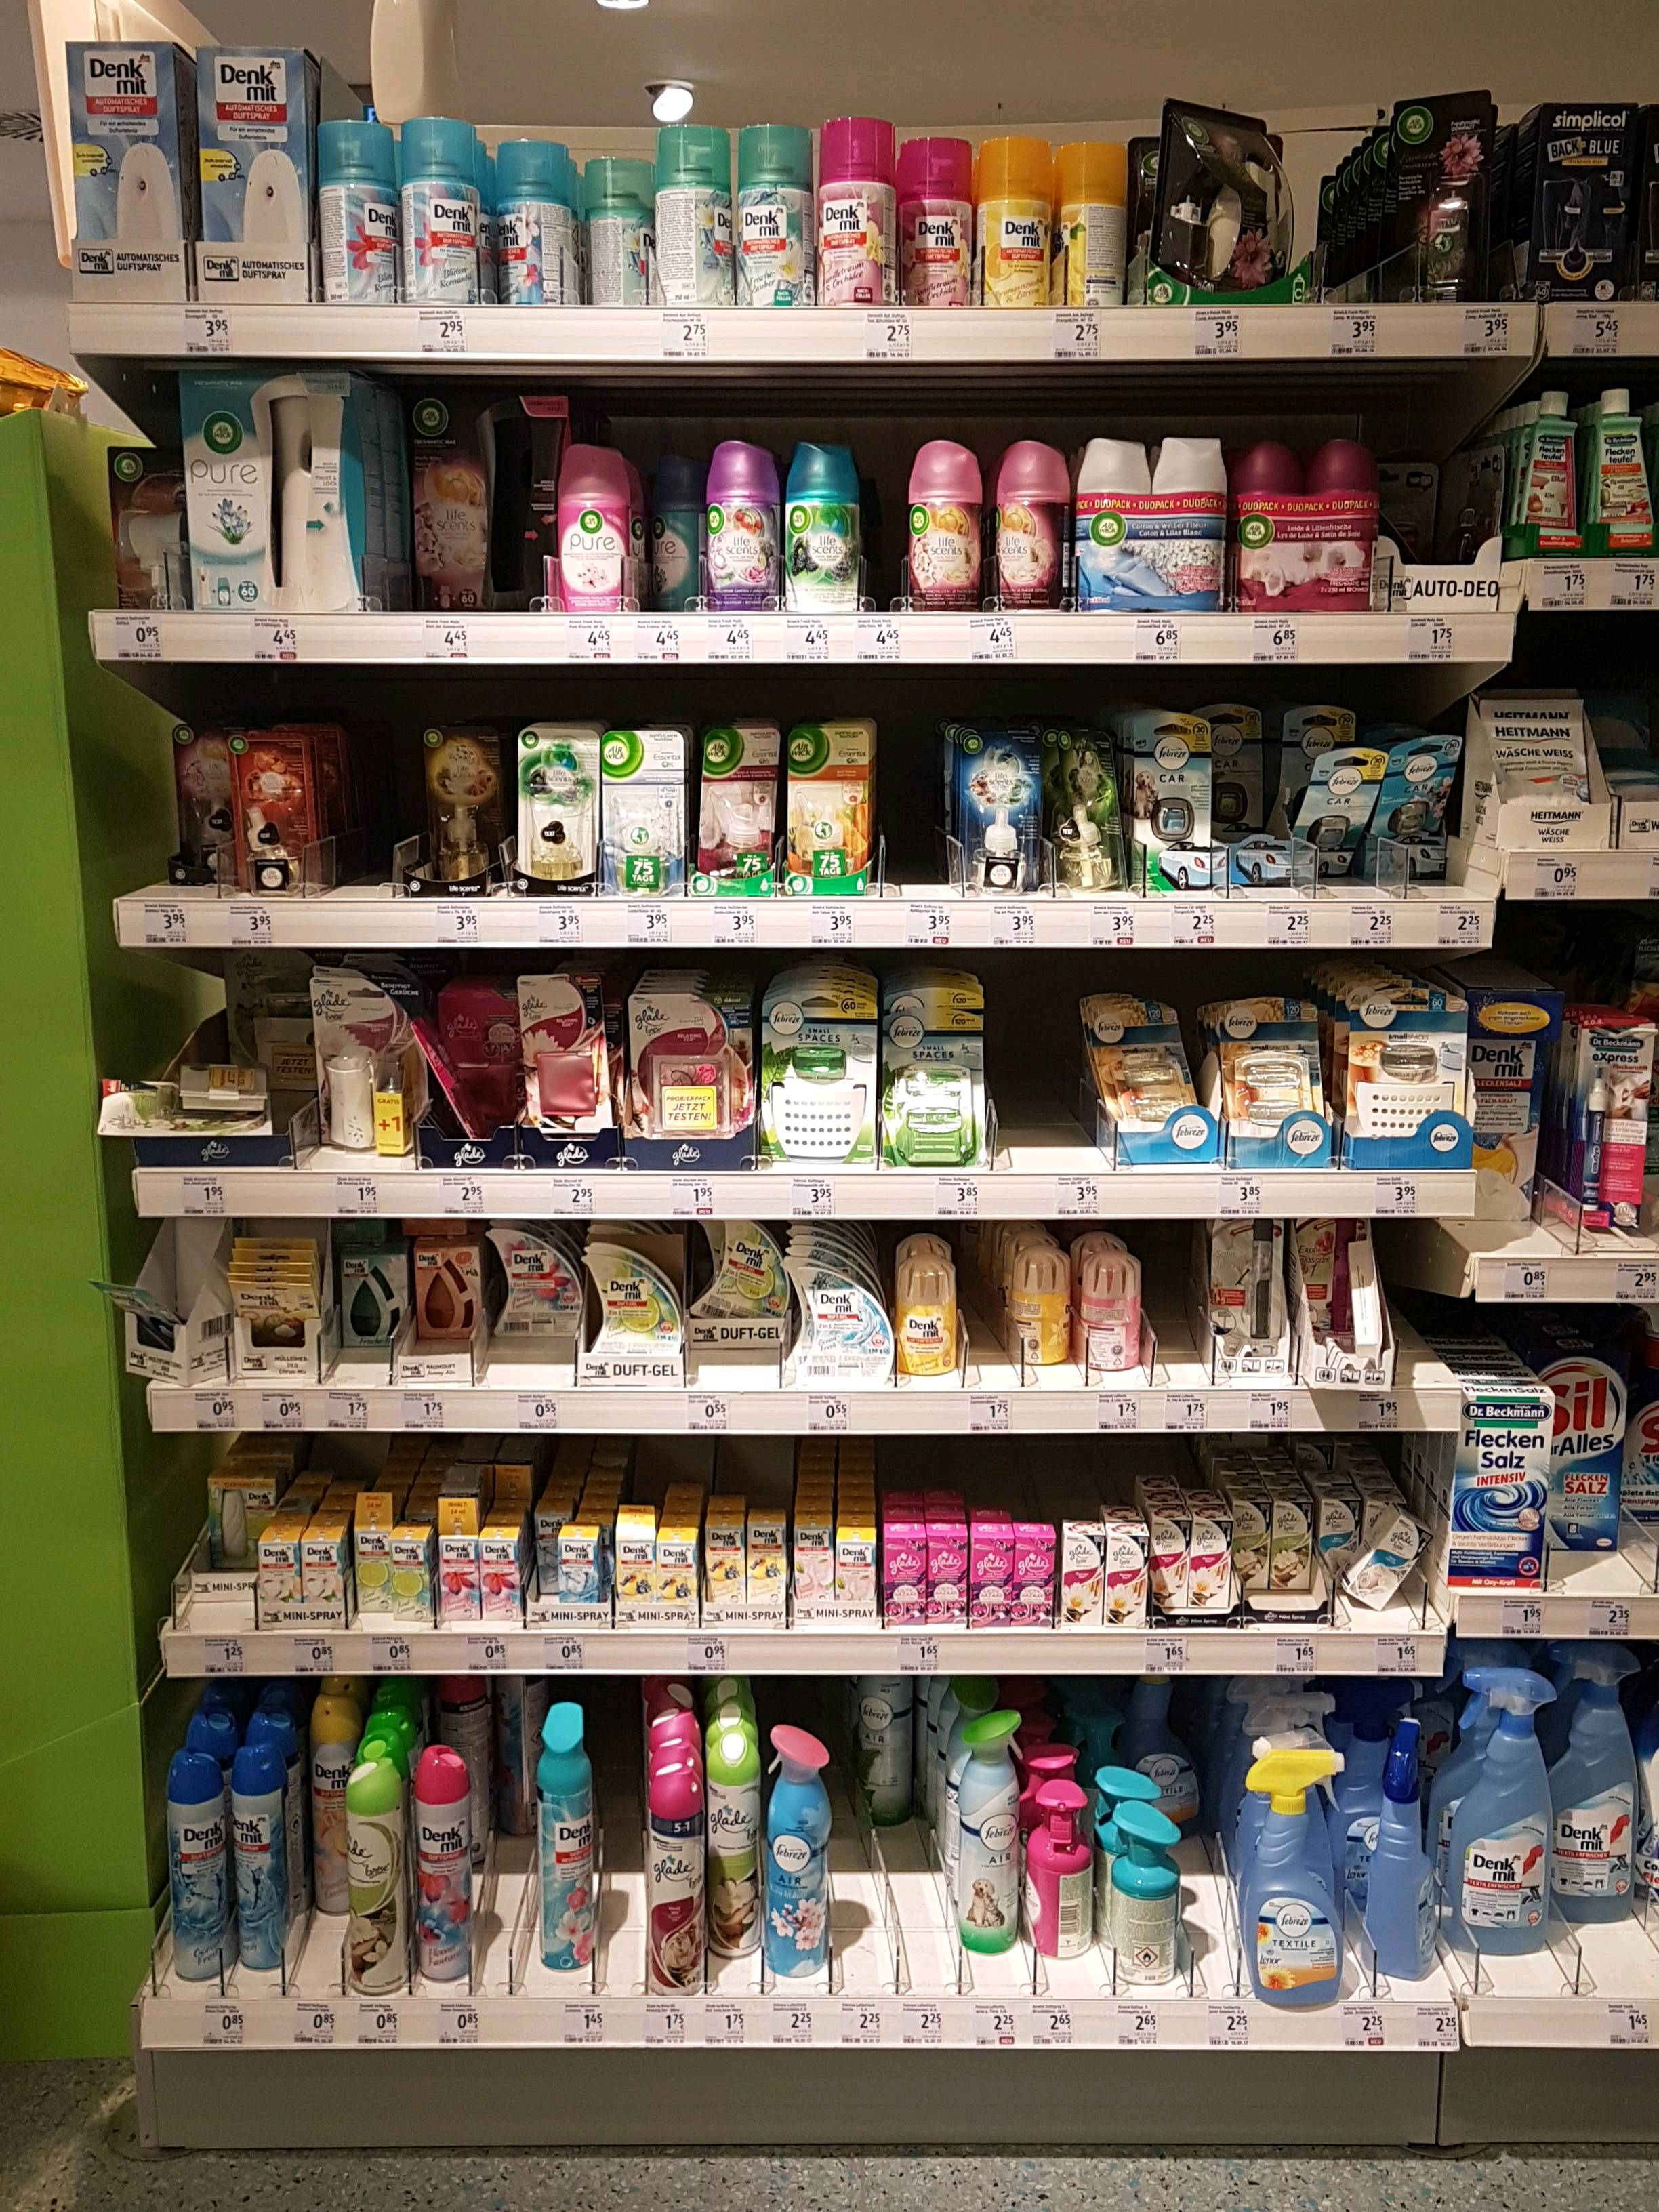Out-of-stock: (988, 984, 1114, 1172)
